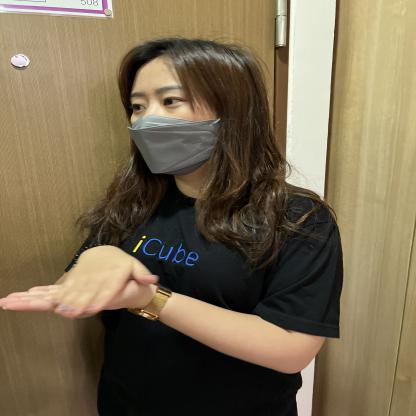Love: (9, 230, 171, 386)
